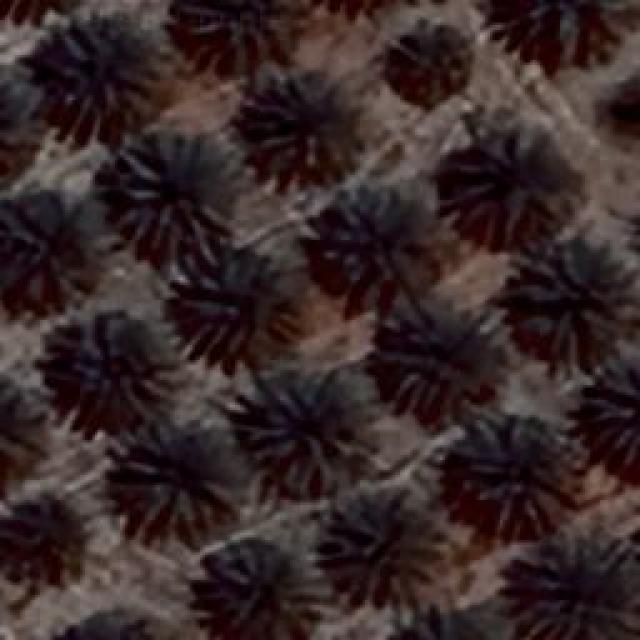PalmTree: (18, 83, 78, 548), (242, 378, 370, 492), (112, 132, 222, 258), (442, 118, 562, 232), (60, 308, 175, 426), (120, 420, 238, 530), (456, 416, 574, 526), (314, 192, 434, 300), (512, 240, 638, 342), (510, 530, 632, 635), (172, 250, 290, 355), (205, 542, 330, 638), (340, 494, 442, 604), (232, 68, 340, 170), (54, 19, 158, 122), (390, 312, 498, 408), (0, 202, 95, 306), (475, 0, 610, 72), (178, 0, 298, 68), (384, 20, 472, 95), (590, 344, 638, 468), (0, 370, 45, 495), (387, 606, 508, 640), (52, 613, 171, 640), (604, 71, 640, 154), (48, 620, 169, 640), (0, 0, 89, 20)
